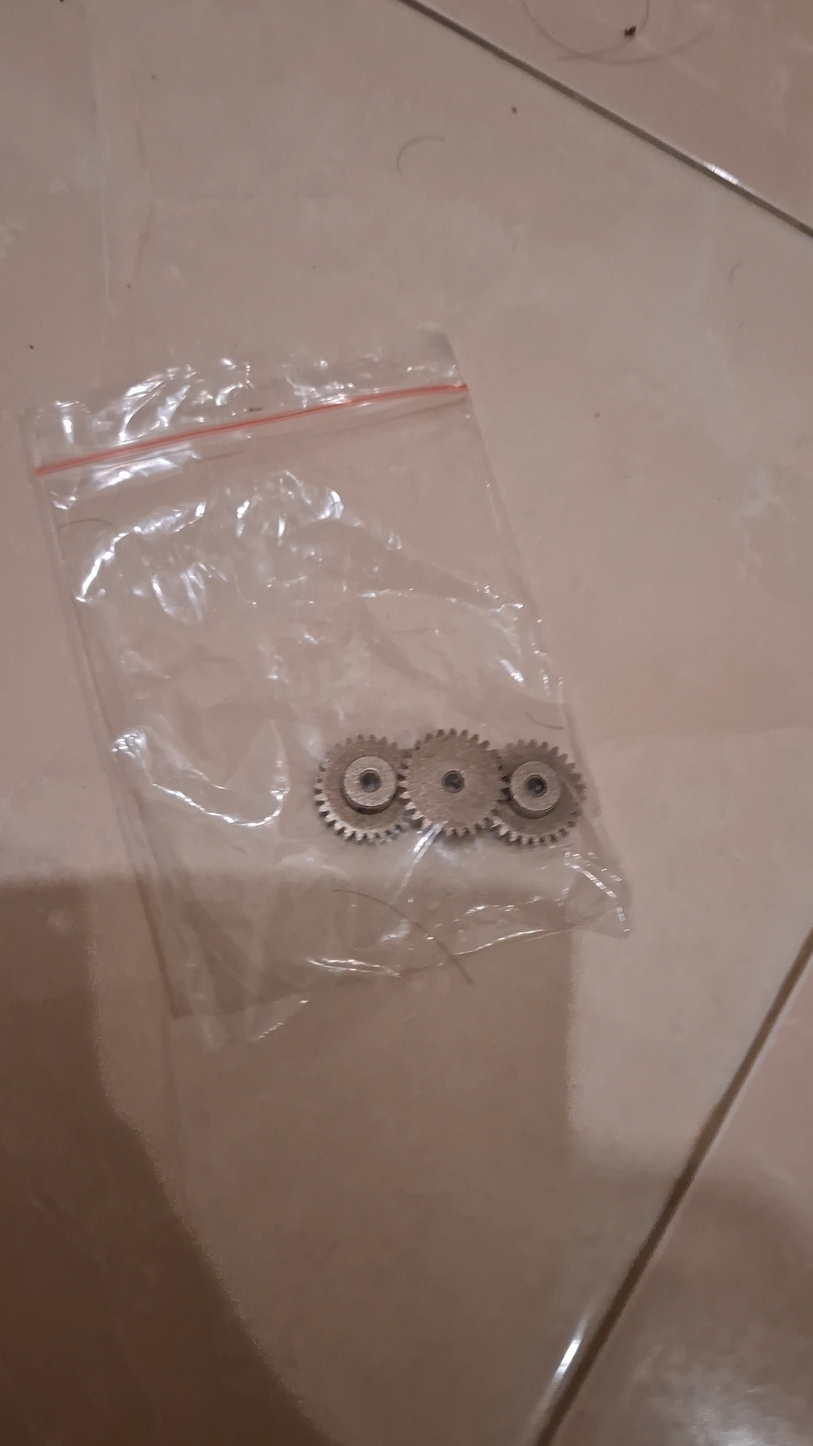spur gear: (311, 733, 422, 842), (475, 736, 589, 842), (400, 729, 503, 838)
